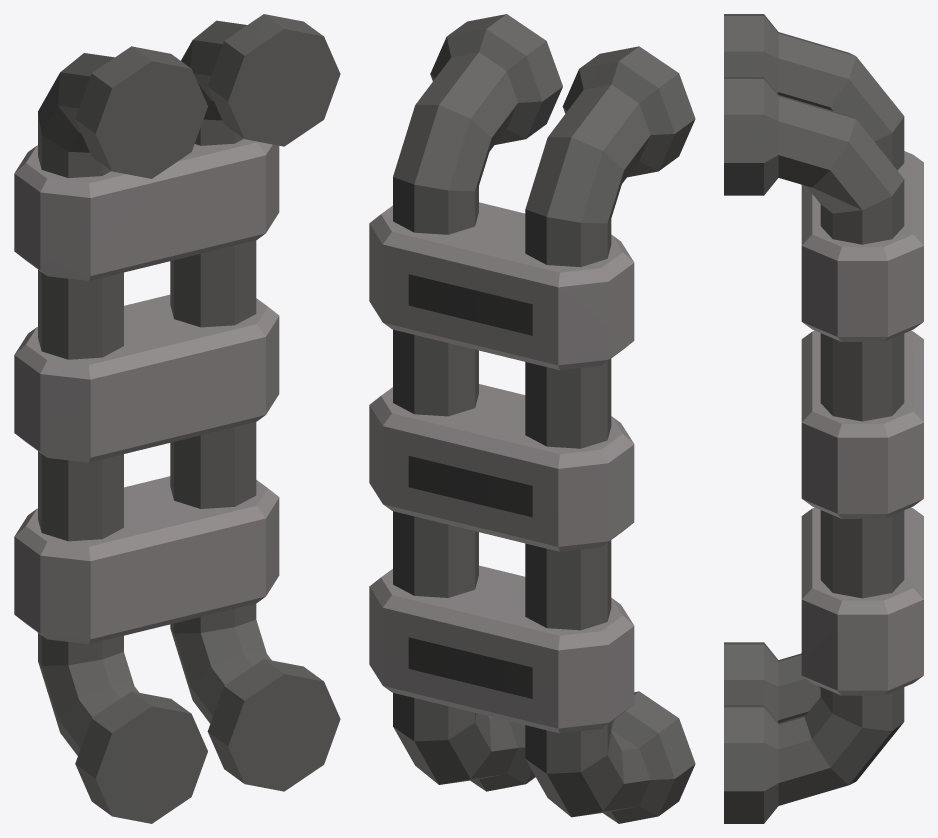
The model's file is entity75734.glb.
3 renders of one model, left to right at view 1: azimuth 30°, elevation 25°; view 2: azimuth 150°, elevation 25°; view 3: azimuth 270°, elevation 25°, orthographic. The views are drawn at different scales.
Parts seen in each view (by area): view 1: node_SM_Bld_Greeble_06 (1); view 2: node_SM_Bld_Greeble_06 (1); view 3: node_SM_Bld_Greeble_06 (1).
Boxes of the visible parts, x1,y1,x2,y2 form: node_SM_Bld_Greeble_06 (1): (14,14,340,823); node_SM_Bld_Greeble_06 (1): (369,14,695,823); node_SM_Bld_Greeble_06 (1): (724,14,923,823).
Bounding box in the file's own units: 0.484 × 1.44 × 0.3511.
Materials: 1 (1 with a texture image).
